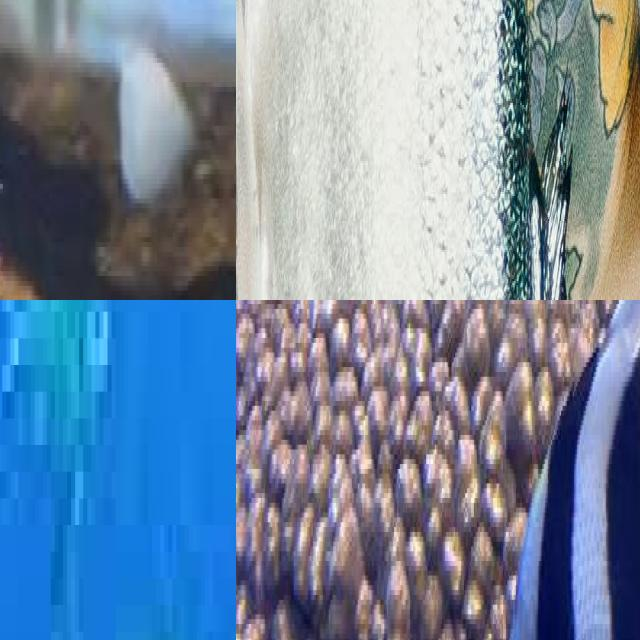fish: (236, 0, 640, 300), (0, 300, 236, 640), (0, 0, 236, 300)
